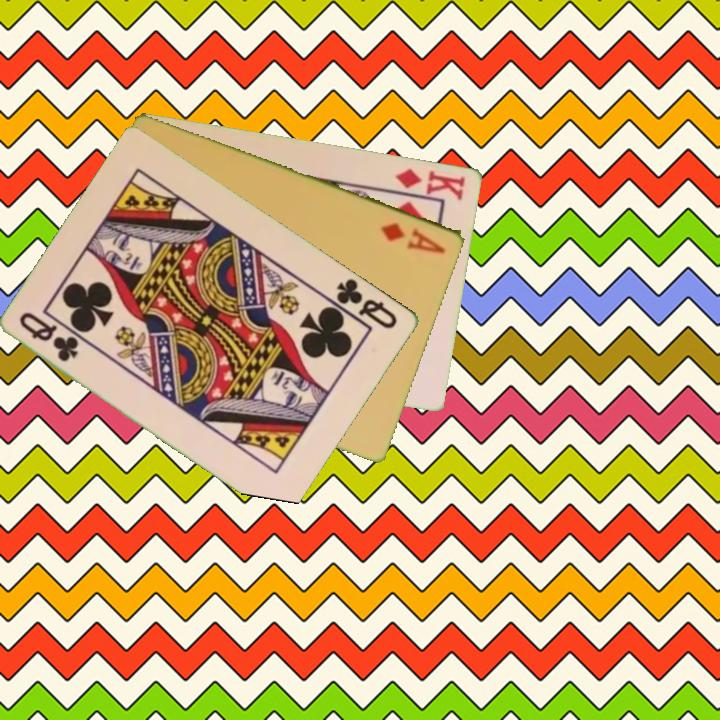Ad: (377, 218, 449, 256)
Kd: (393, 164, 469, 203)
Qc: (333, 274, 401, 332), (16, 308, 83, 365)
